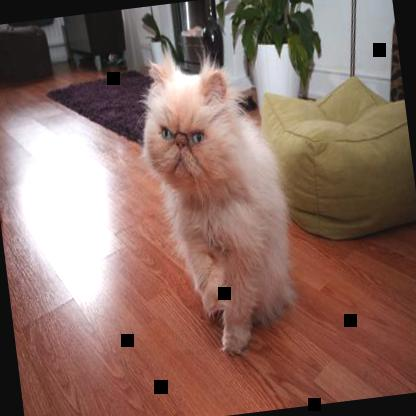cat: (131, 40, 304, 363)
